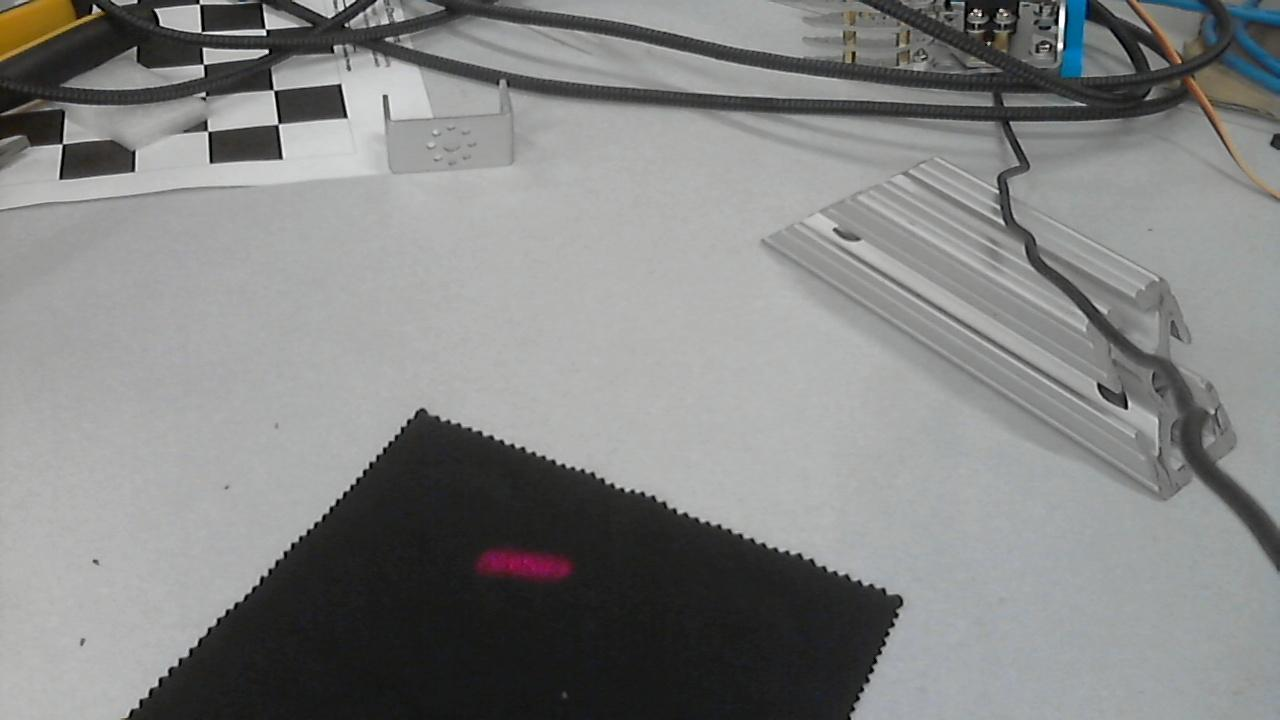Object plastic container lid - Material plastic - Color red - Pdfname ZC63DBkv6o: (452, 518, 594, 595)
